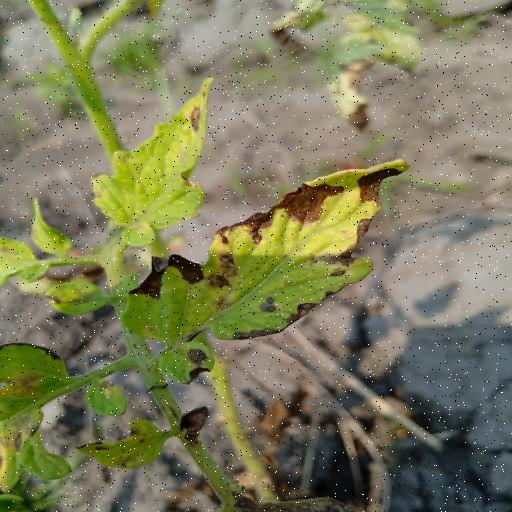Tomato_Brown_Spots: (116, 155, 413, 390), (89, 72, 218, 244)
